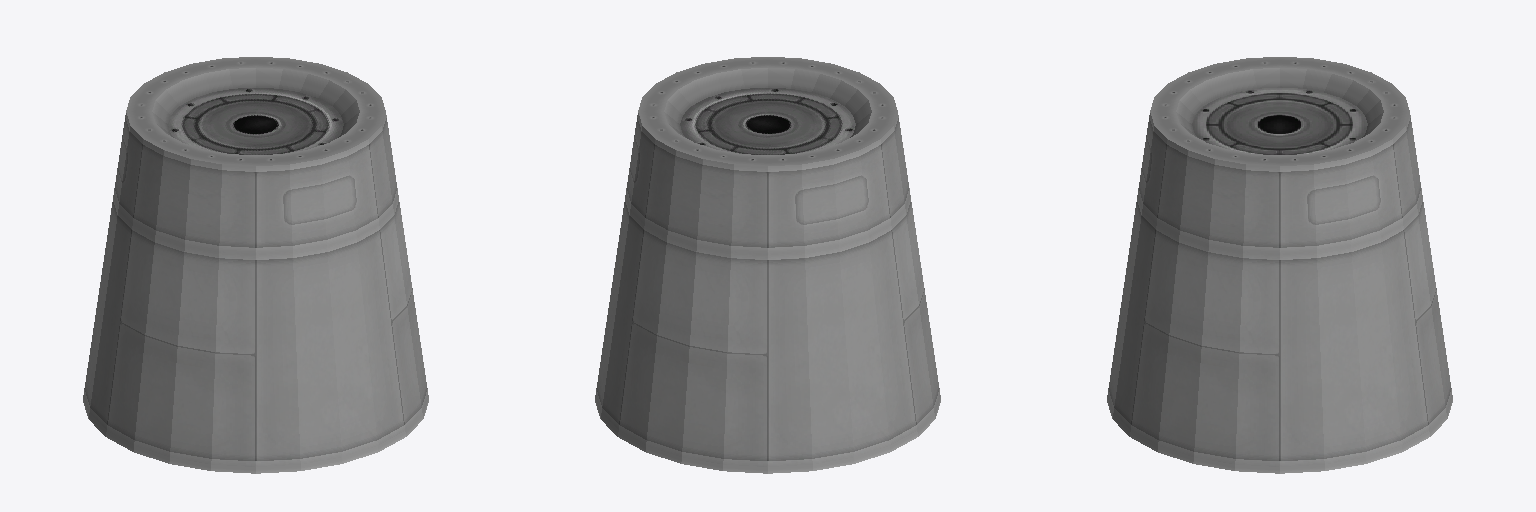
3 views of the same model, side by side, from view 1: azimuth 30°, elevation 25°; view 2: azimuth 150°, elevation 25°; view 3: azimuth 270°, elevation 25° (orthographic).
Parts seen in each view (by area): view 1: Knight_Engine_A_Fairing, Knight_Engine_A, Knight_Engine_A_Support; view 2: Knight_Engine_A_Fairing, Knight_Engine_A, Knight_Engine_A_Support; view 3: Knight_Engine_A_Fairing, Knight_Engine_A, Knight_Engine_A_Support.
Boxes of the visible parts, x1=… form: Knight_Engine_A_Fairing: x1=84, y1=195, x2=427, y2=466; Knight_Engine_A: x1=114, y1=57, x2=397, y2=252; Knight_Engine_A_Support: x1=83, y1=395, x2=428, y2=473; Knight_Engine_A_Fairing: x1=596, y1=195, x2=939, y2=466; Knight_Engine_A: x1=626, y1=57, x2=909, y2=252; Knight_Engine_A_Support: x1=595, y1=395, x2=940, y2=473; Knight_Engine_A_Fairing: x1=1108, y1=195, x2=1451, y2=466; Knight_Engine_A: x1=1138, y1=57, x2=1421, y2=252; Knight_Engine_A_Support: x1=1107, y1=395, x2=1452, y2=473.
Size of the model in its own units: 1.25 by 1.15 by 1.25.
Materials: 3 (1 with a texture image).